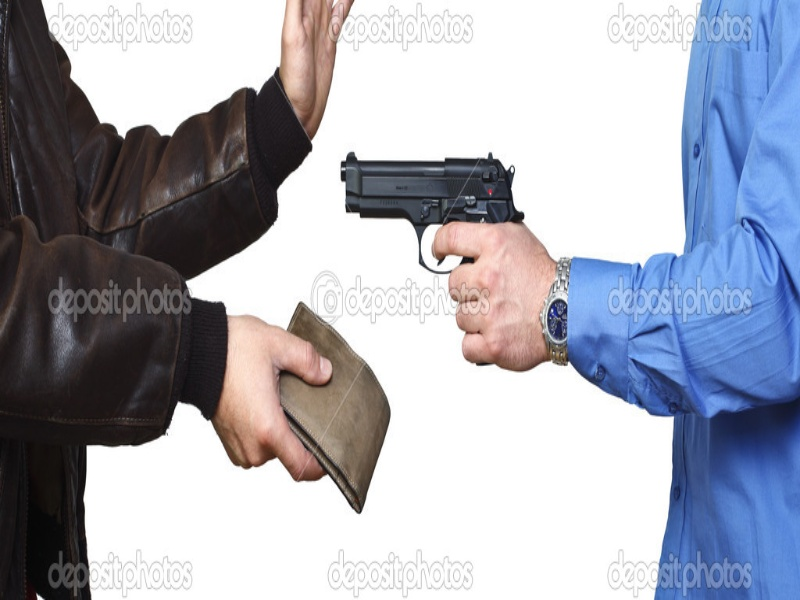gun: (333, 152, 533, 311)
